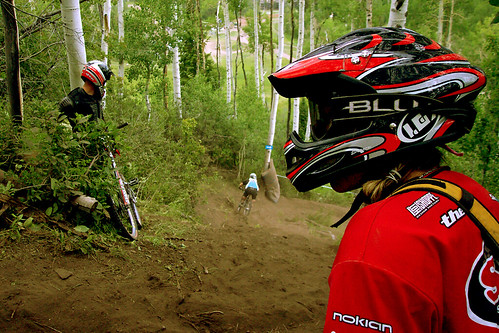helmet: (244, 23, 491, 192), (78, 55, 119, 93)
